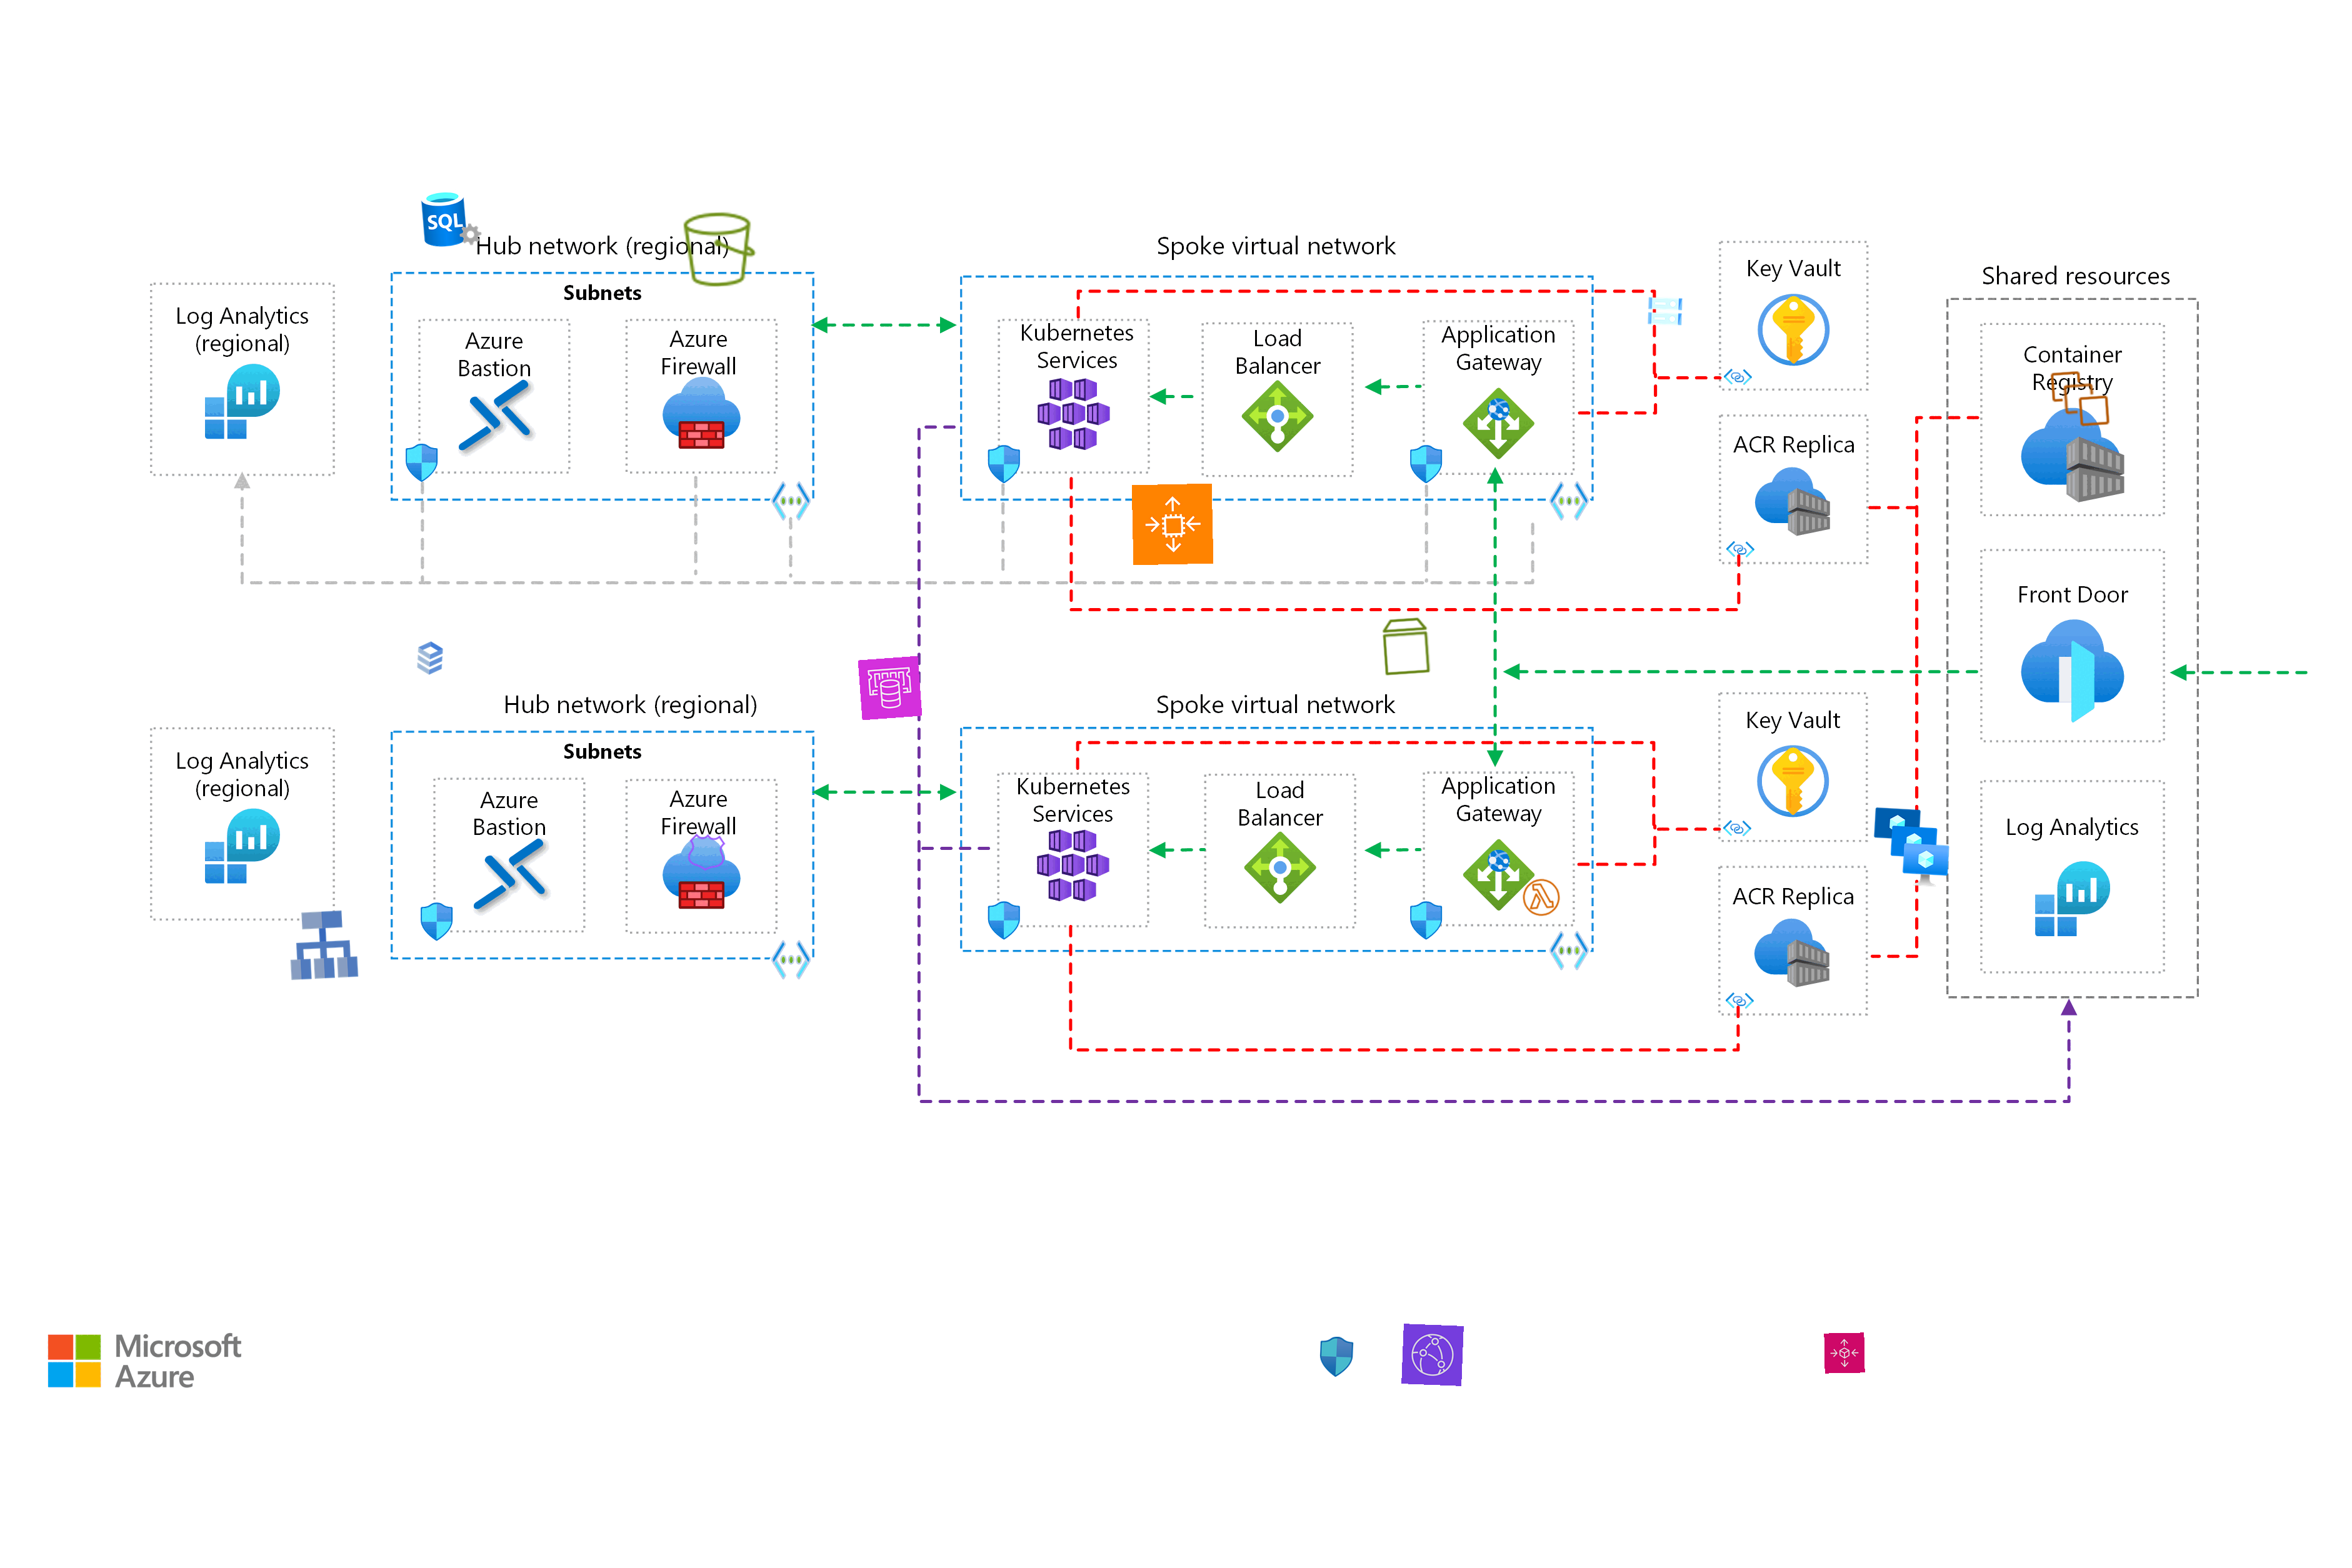aws_amazon_cloudfront: (1402, 1323, 1463, 1386)
aws_amazon_ec2_auto_scaling: (1130, 483, 1214, 565)
aws_amazon_elasticache: (858, 656, 922, 721)
aws_auto_scaling: (1824, 1332, 1865, 1374)
aws_ec2_instances: (2047, 366, 2112, 430)
aws_elastic_block_store_volume: (1374, 614, 1439, 679)
aws_lambda_lambda_function: (1519, 875, 1563, 919)
aws_route_53_hosted_zone: (684, 831, 728, 875)
aws_simple_storage_service_s3_standard: (679, 208, 761, 290)
azure_network_security_groups: (1314, 1335, 1358, 1377)
azure_sql_server: (418, 185, 483, 250)
azure_vm_scale_sets: (1867, 803, 1953, 887)
gcp_cloud_load_balancing: (280, 903, 366, 987)
gcp_cloud_sql: (410, 637, 452, 679)
gcp_cloud_storage: (1643, 290, 1687, 332)
